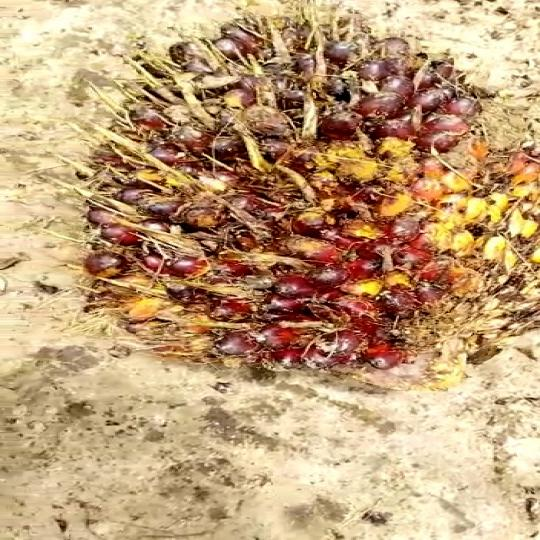masak: (84, 17, 540, 375)
